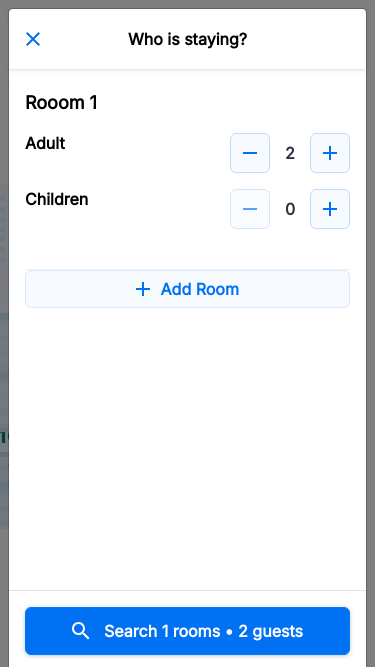
Test: Guest Selector Add Room Functions › should increment the guest count
Click the 1st button with test id "plus-btn".
click(330, 153)  # box [310,133,350,173]
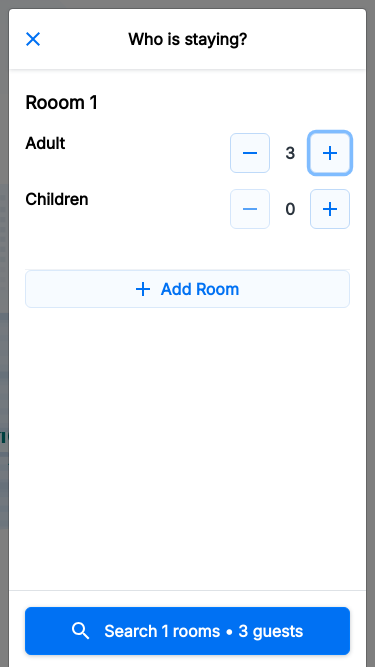
Expected: the field with test id "spinner-value" in the row of "Adult" holds "3", [270,133,310,173]
